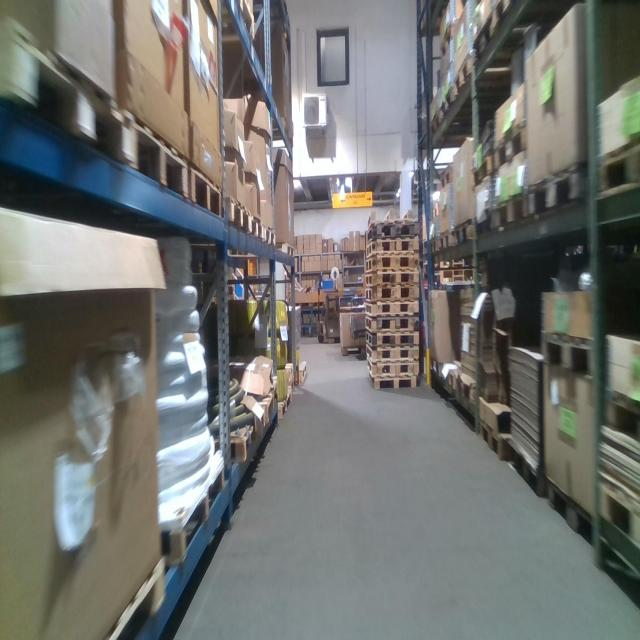pallet: (2, 14, 129, 164), (121, 92, 188, 204), (161, 453, 228, 561), (100, 555, 166, 639), (528, 161, 593, 231), (598, 469, 640, 554), (546, 480, 595, 548), (541, 325, 595, 382), (597, 135, 637, 201), (492, 116, 530, 176), (498, 184, 535, 242), (188, 163, 222, 217), (601, 395, 639, 441), (480, 419, 513, 460), (227, 417, 256, 462), (473, 145, 498, 192), (371, 215, 419, 239), (452, 56, 472, 106), (222, 195, 249, 232), (451, 223, 476, 259), (367, 241, 419, 258), (474, 19, 496, 58), (366, 331, 419, 347), (368, 360, 420, 376), (365, 286, 419, 301), (493, 0, 515, 35), (365, 302, 420, 315), (433, 93, 451, 132), (366, 259, 420, 272), (366, 348, 419, 361), (440, 19, 459, 54), (366, 320, 418, 331), (459, 376, 483, 399), (365, 274, 420, 284), (276, 393, 293, 425), (371, 378, 418, 387), (248, 214, 263, 239), (295, 359, 308, 387), (275, 242, 295, 256), (280, 361, 294, 381), (264, 224, 276, 246), (440, 230, 451, 248), (432, 236, 438, 249)
pallet_truck: (312, 277, 333, 347)
